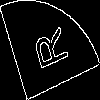R: (25, 25, 70, 76)
